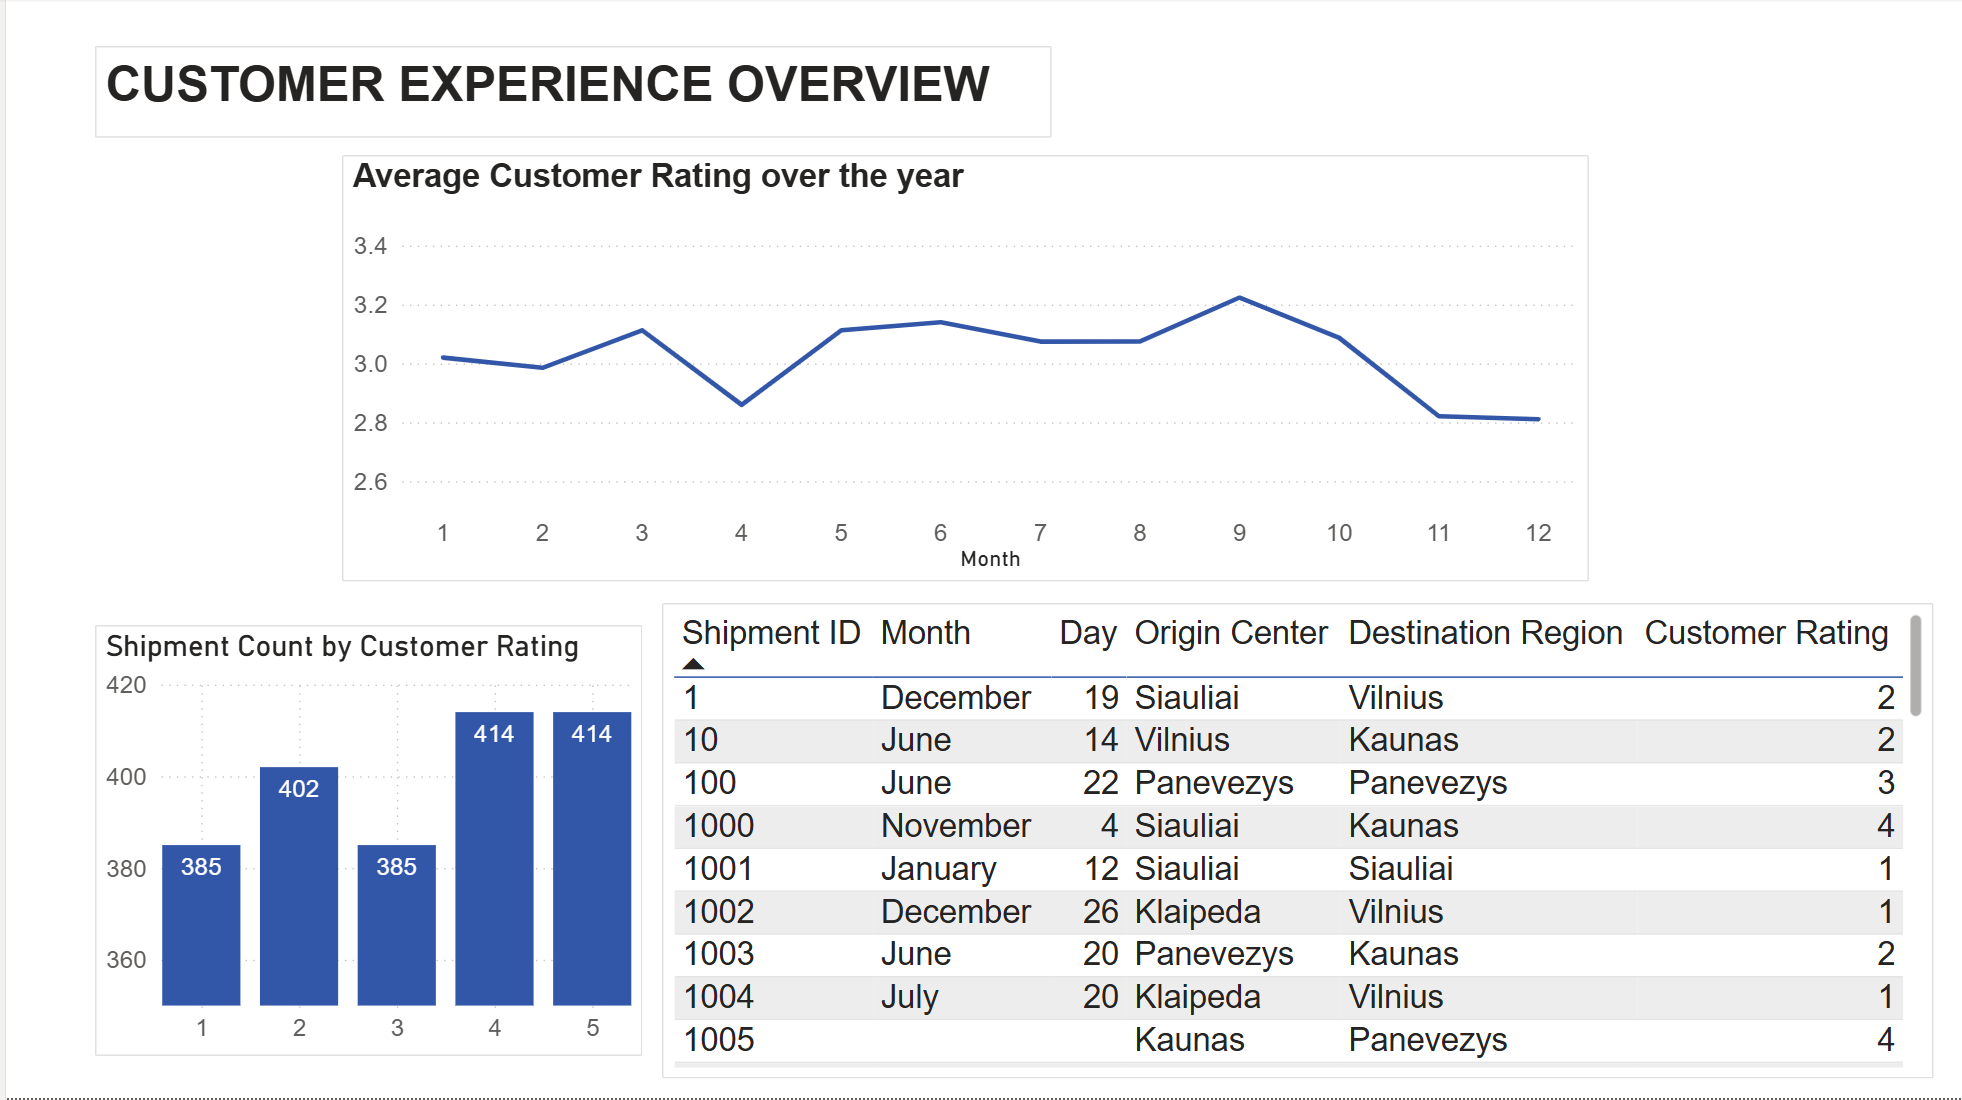

The page's visual inventory and layout, read from the dashboard file:
{"tool":"powerbi","page":{"name":"Customer Experience & Quality","canvas":[1280,720],"ordinal":2},"visuals":[{"type":"lineChart","title":"Average Customer Rating over the year","fields":{"Category":["shipments.month(delivery_date)"],"Y":["Avg(shipments.customer_rating)"]},"box":[219.9,102.7,816,278.8],"z":0},{"type":"columnChart","title":"Shipment Count by Customer Rating","fields":{"Category":["shipments.customer_rating"],"Y":["CountNonNull(shipments.shipment_id)"]},"box":[58.2,410.3,358,282],"z":1000},{"type":"tableEx","fields":{"Values":["shipments.shipment_id","shipments.delivered_date.Variation.Date Hierarchy.Month","shipments.delivered_date.Variation.Date Hierarchy.Day","shipments.origin_center","shipments.destination_region","shipments.customer_rating"]},"box":[429.3,395.9,831.7,311.5],"z":2000},{"type":"textbox","box":[58.2,31.4,625.6,59.6],"z":3000}]}

Visuals, with their boxes in screenshot pixels (x1, y1, x2, y2), scaled from the page's 1280x720 canvas onto the 1962x1100 screenshot:
"Average Customer Rating over the year" lineChart: {"left": 337, "top": 157, "right": 1588, "bottom": 583}
"Shipment Count by Customer Rating" columnChart: {"left": 89, "top": 627, "right": 638, "bottom": 1058}
tableEx - shipments.shipment_id x shipments.delivered_date.Variation.Date Hierarchy.Month: {"left": 658, "top": 605, "right": 1933, "bottom": 1081}
textbox: {"left": 89, "top": 48, "right": 1048, "bottom": 139}
